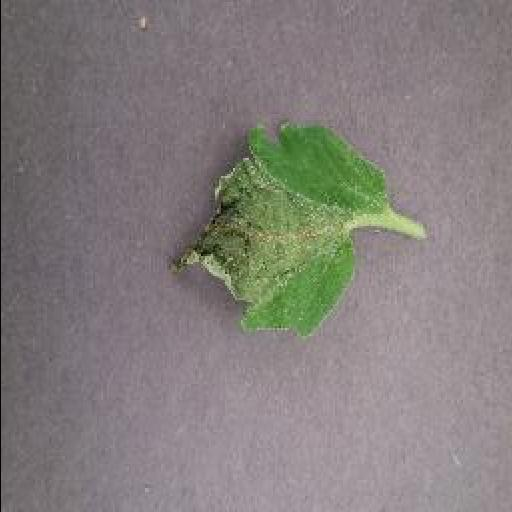disease_tomato: (167, 120, 389, 338)
